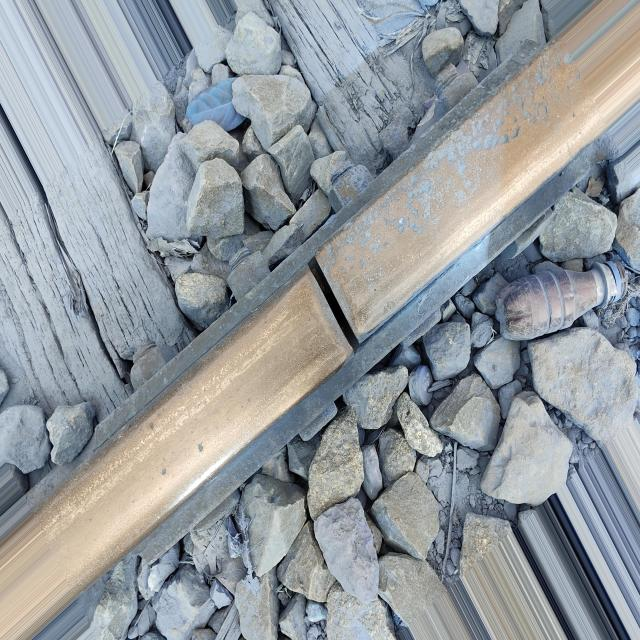crack: (279, 222, 388, 376)
